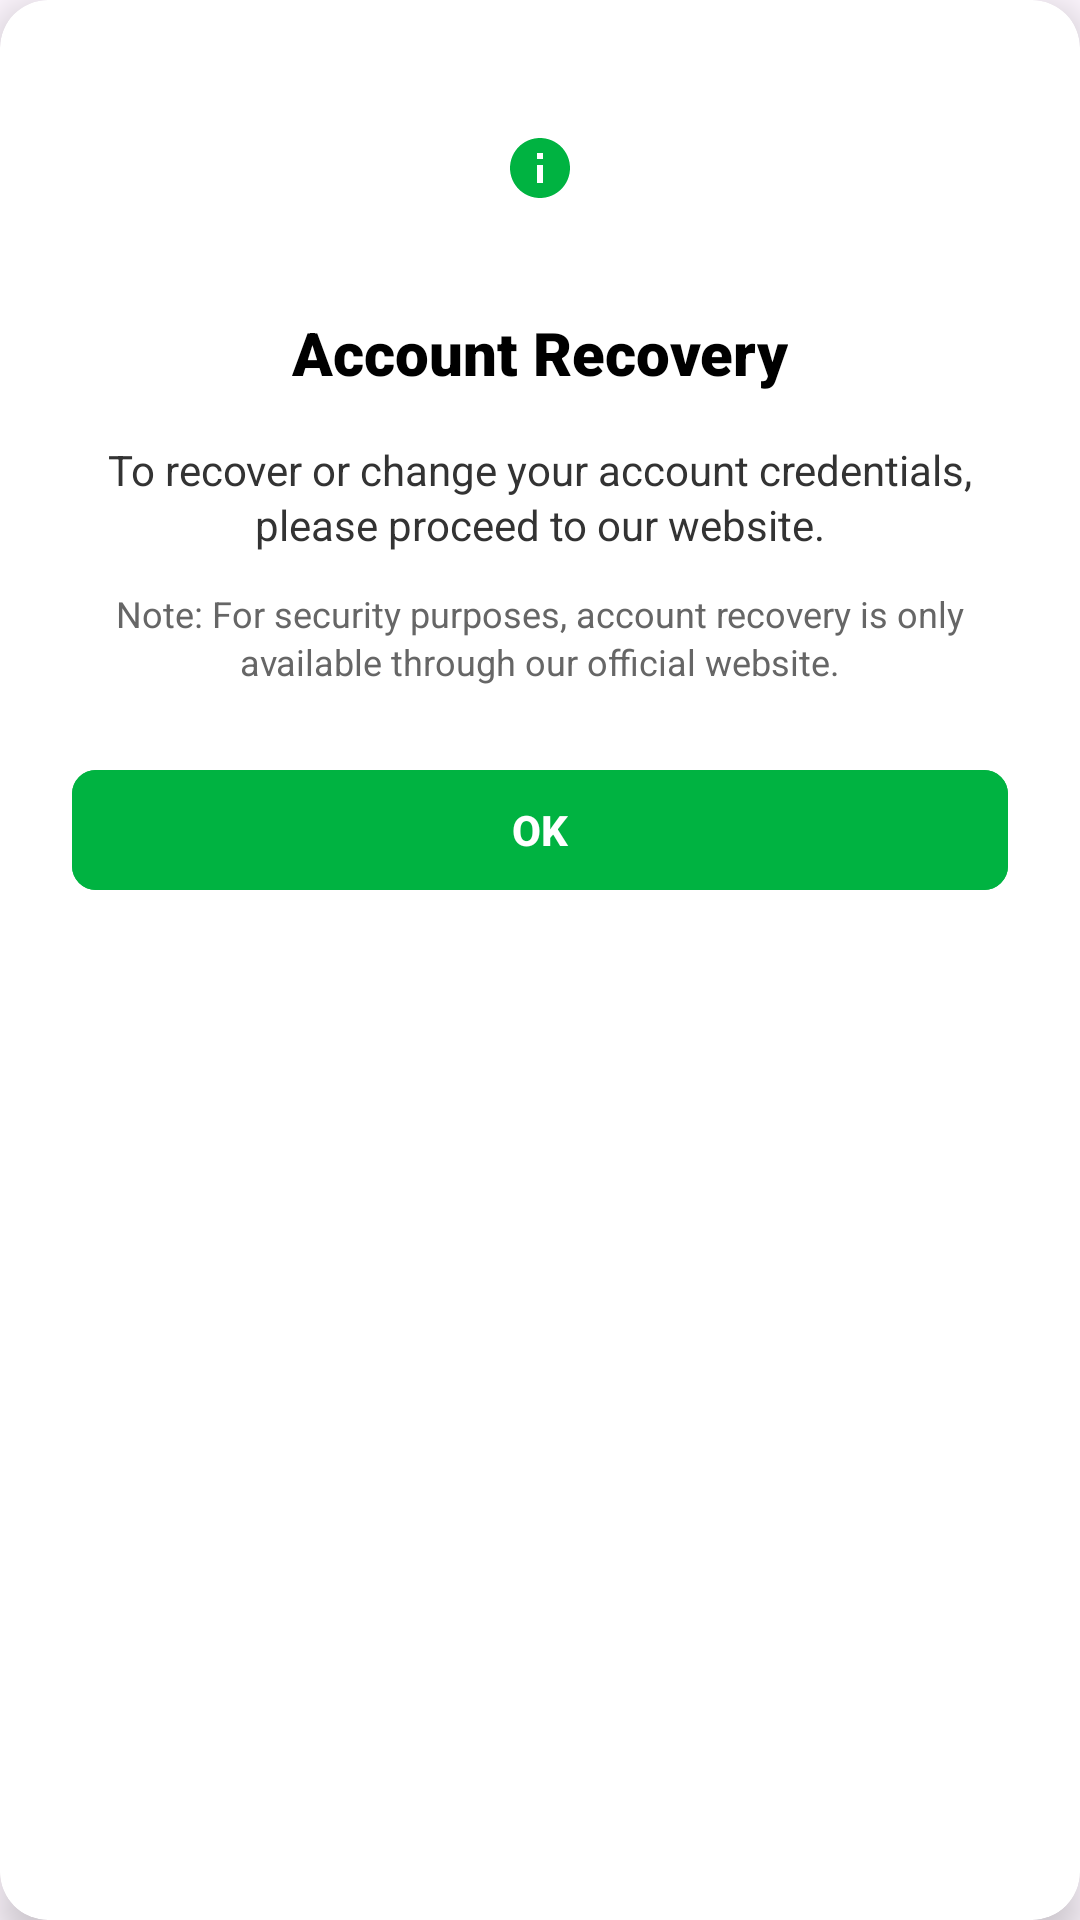

Point at icon controls on the screen. Image size 1080x1920, points as (x=x, y=y).
Info Icon: (x=540, y=168)
